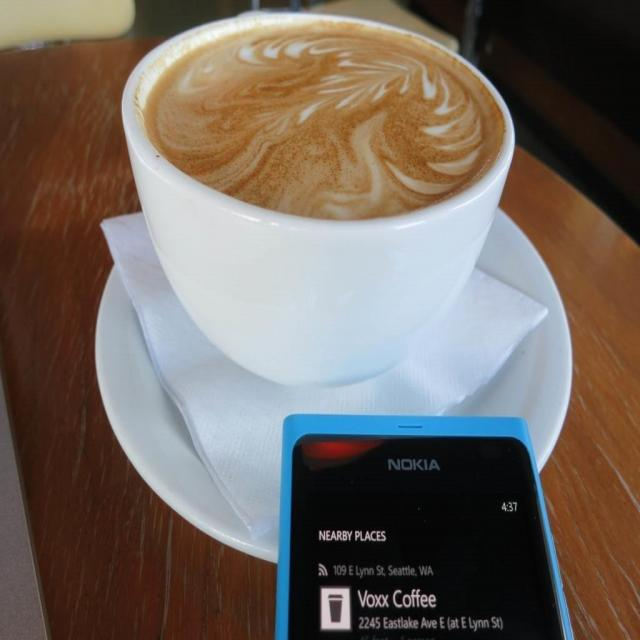cup-handle: (121, 11, 516, 392)
